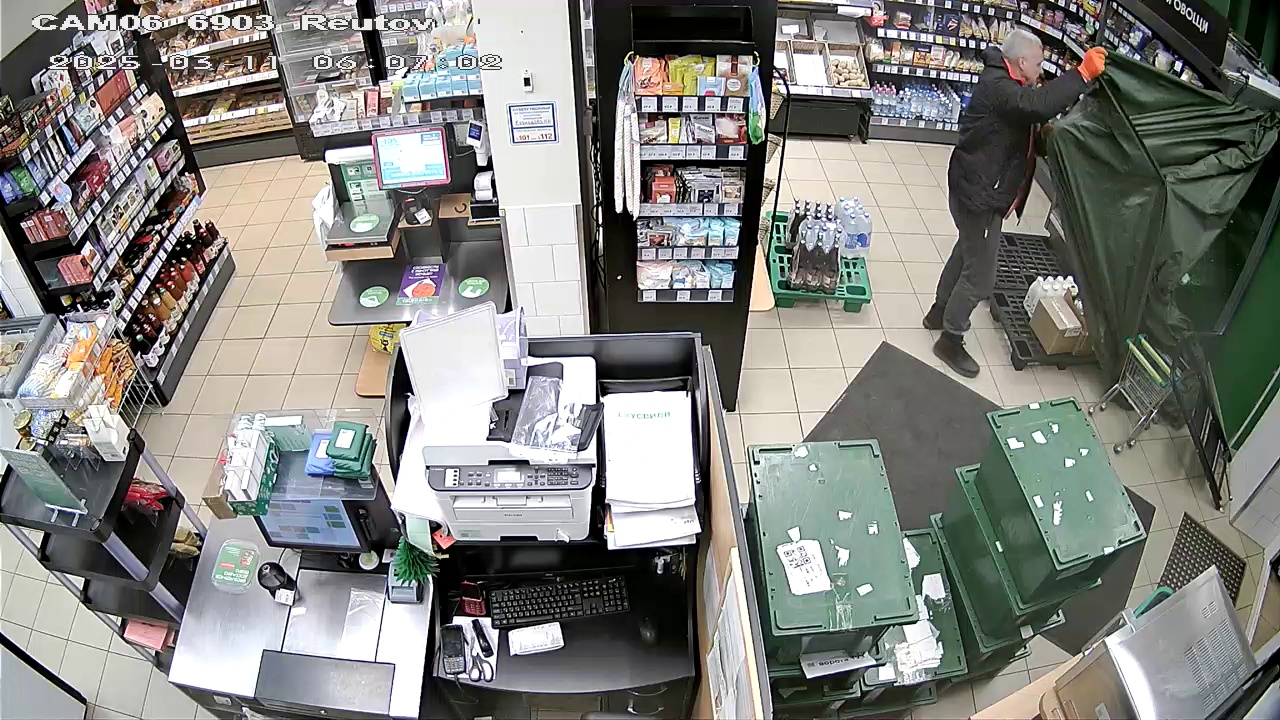Human: (920, 27, 1120, 375)
dome: (1053, 55, 1256, 393)
pallet: (988, 230, 1105, 357)
